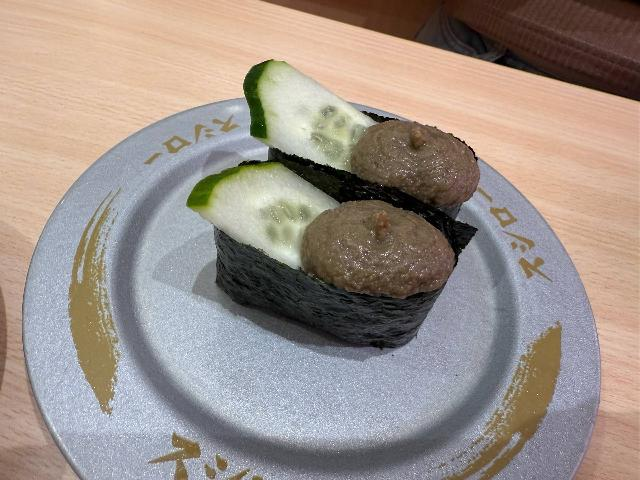janwhite: (64, 150, 564, 450)
